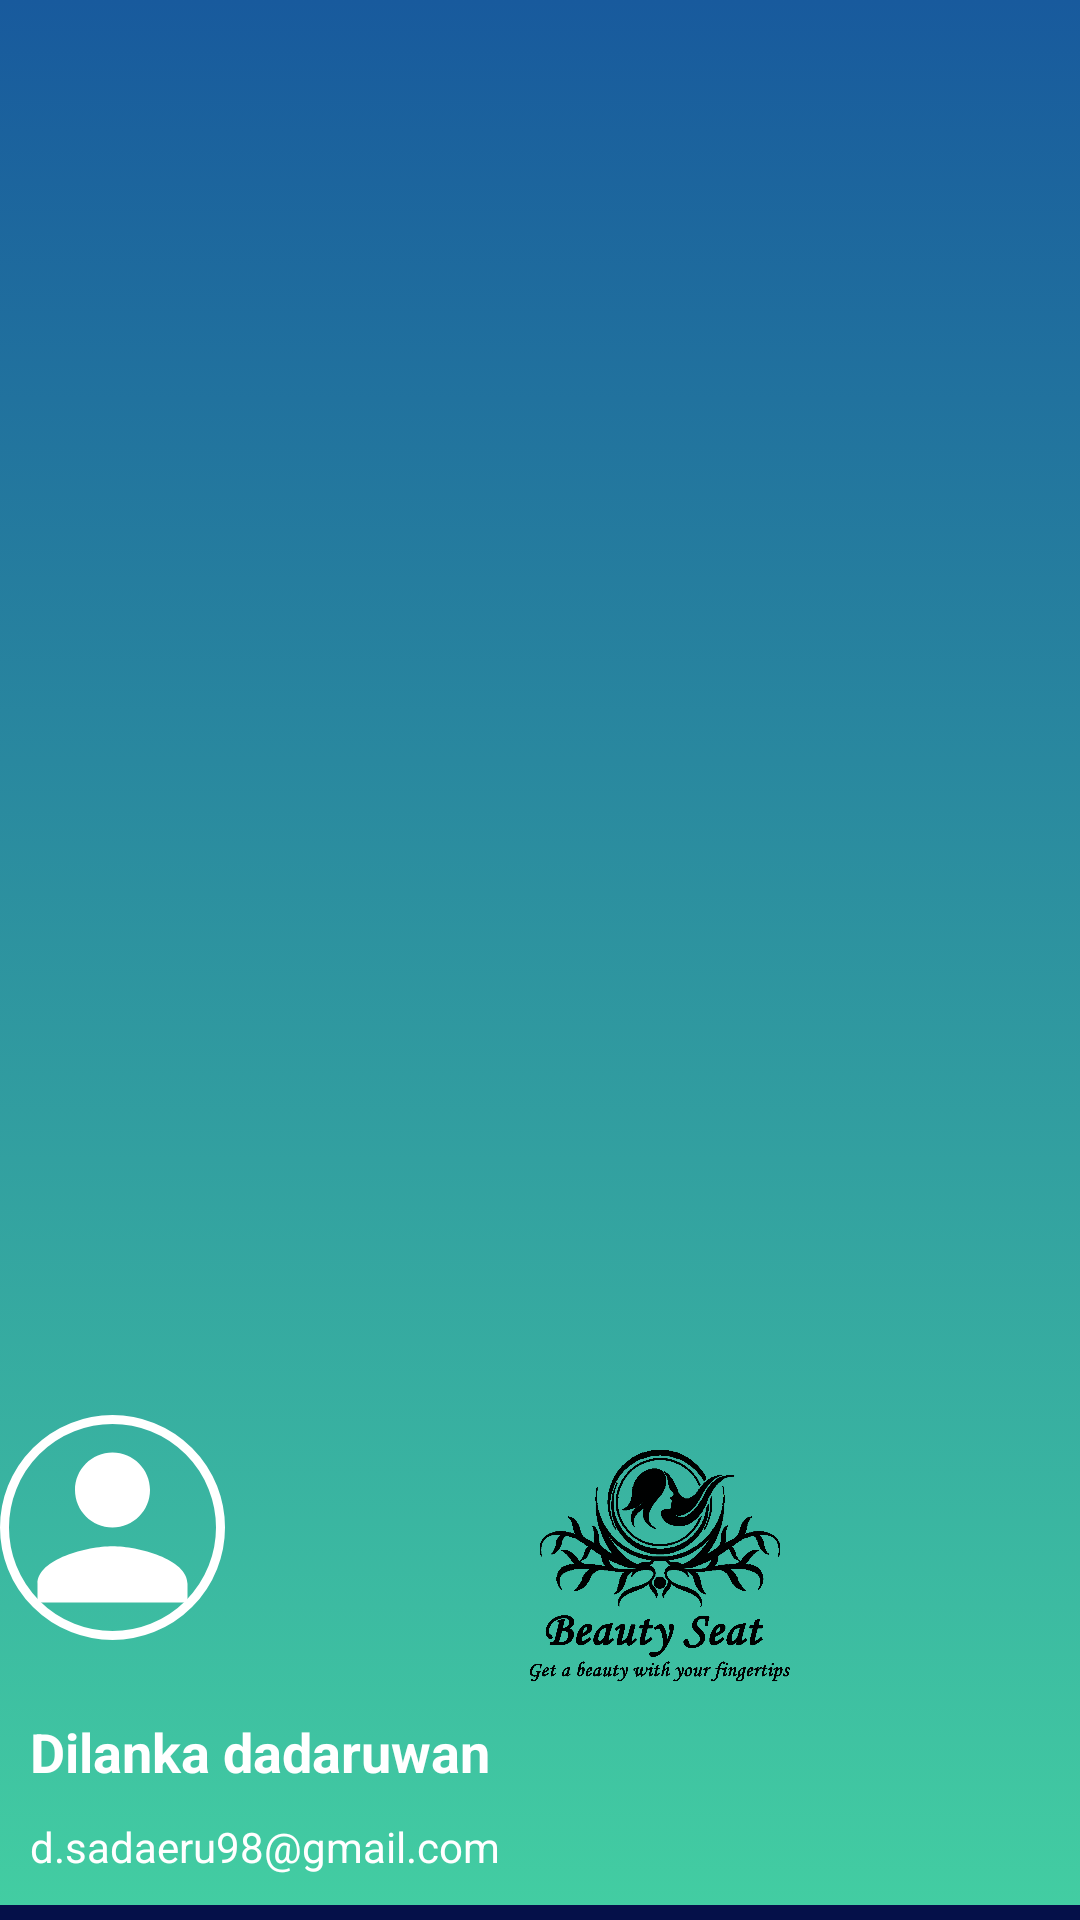

Screen size 1080x1920. Icon name, then its box in pixels as Rect(x1, y1, x2, y2):
person: Rect(0, 1415, 225, 1640)
